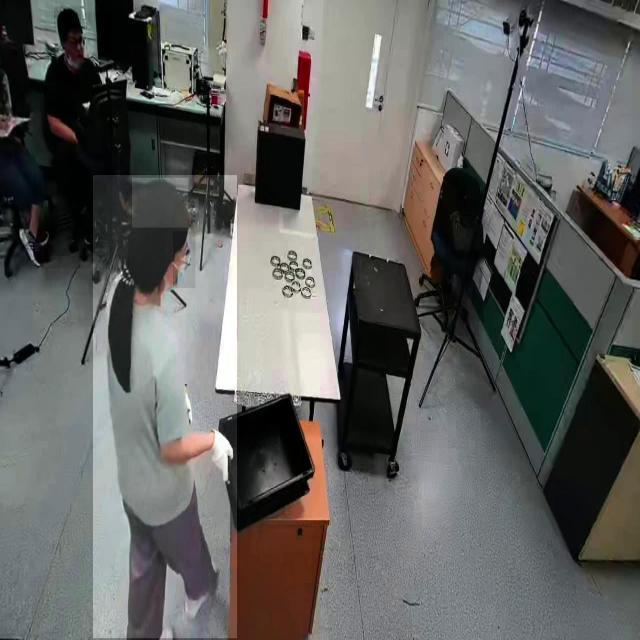gloves: (211, 415, 236, 490)
